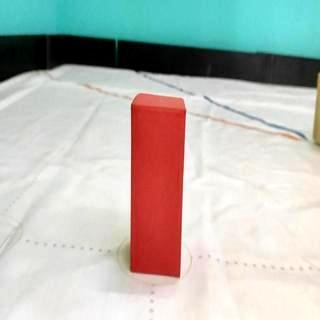redbox: (128, 92, 188, 278)
